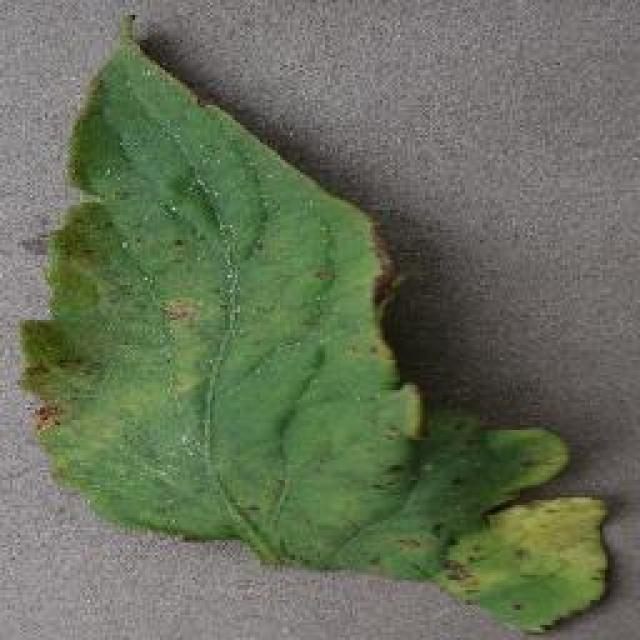Tomato bacterial spot leaf: (20, 6, 617, 638)
